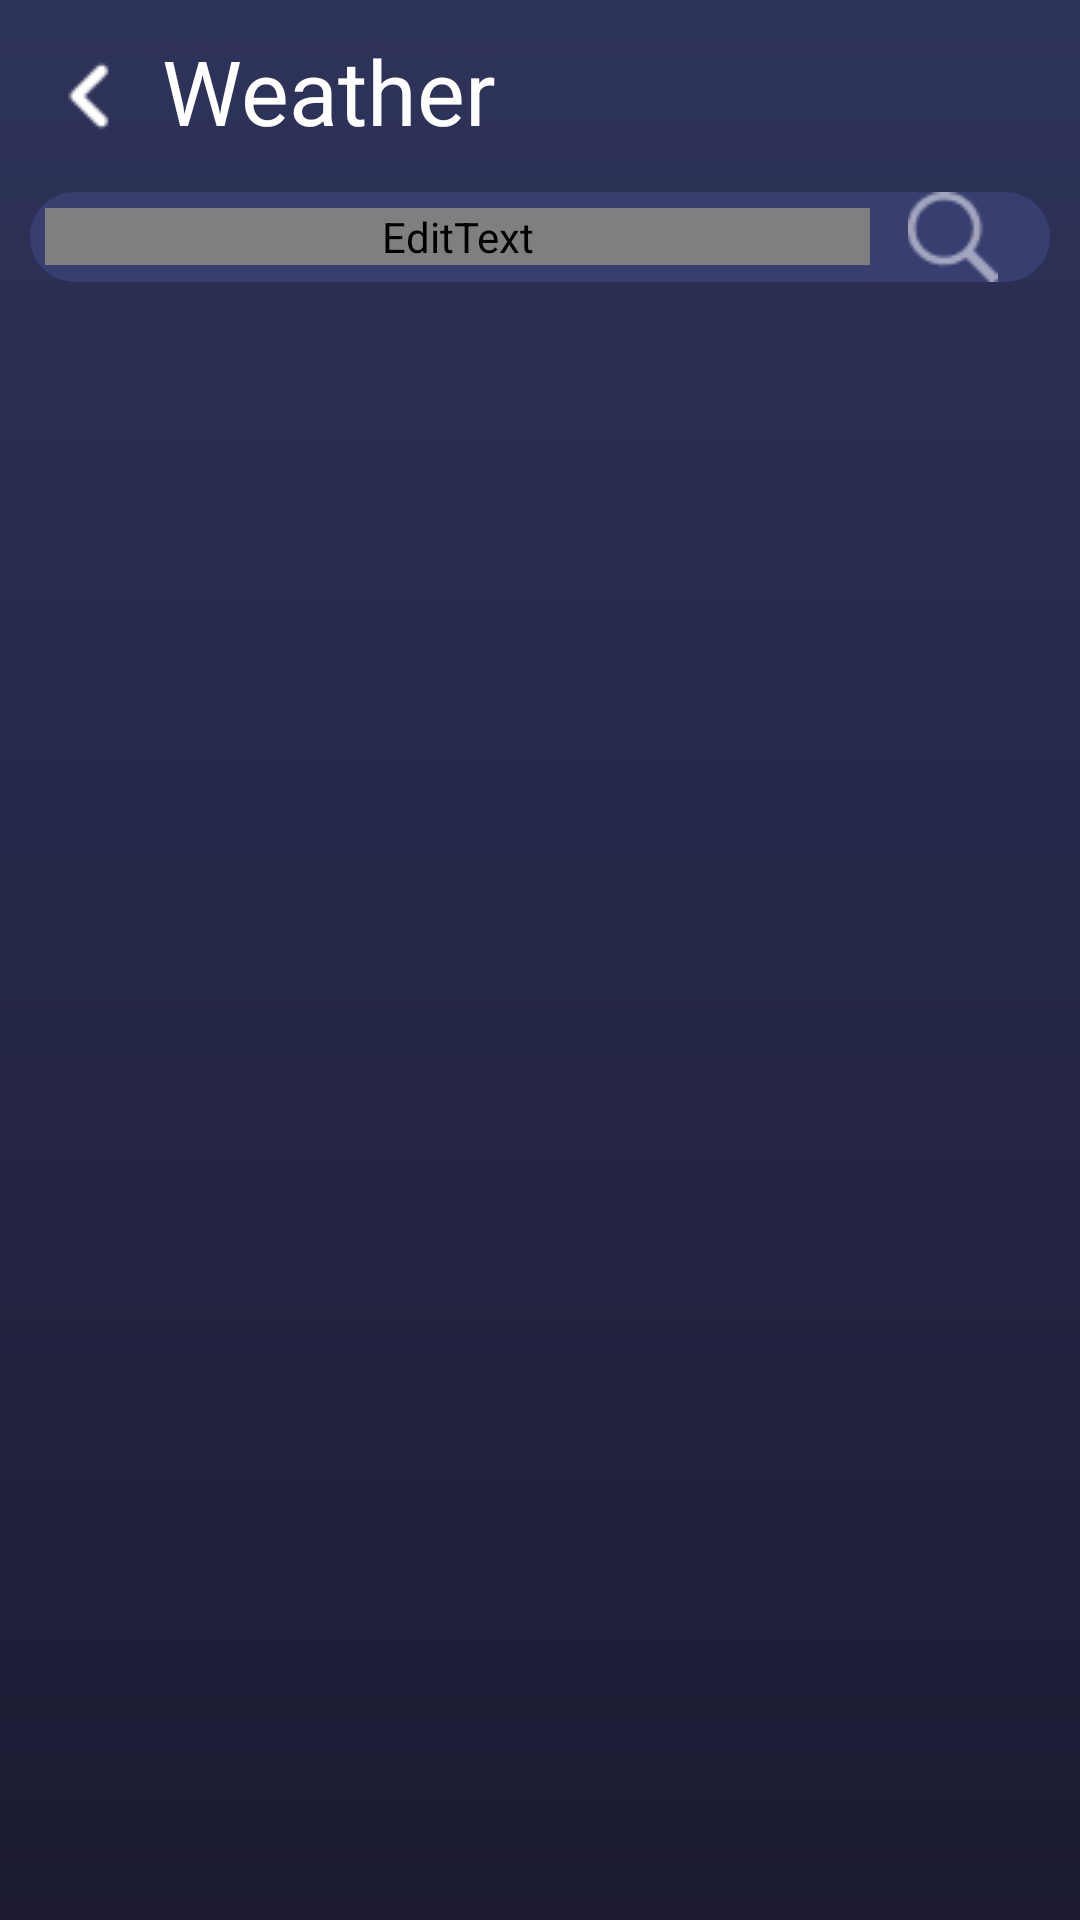

Where to tap for icons on this 1080*1920 app screen, as (x,y):
back: (88,96)
